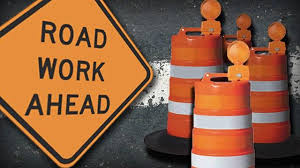barrel: (193, 75, 255, 168), (169, 34, 223, 139), (243, 45, 295, 143)
